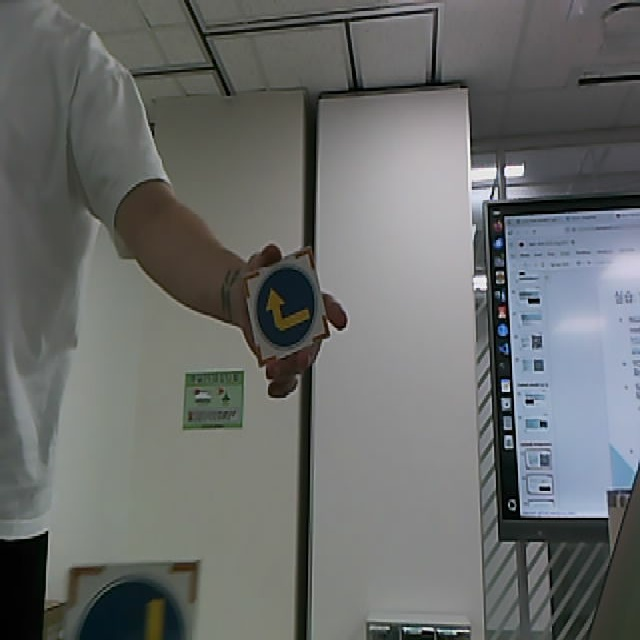right: (241, 247, 331, 366)
